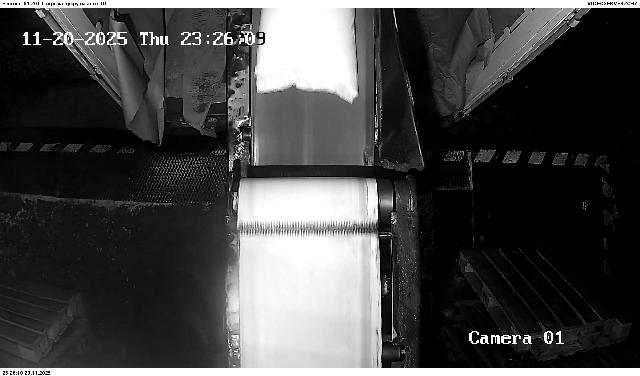bag: (254, 8, 358, 104)
